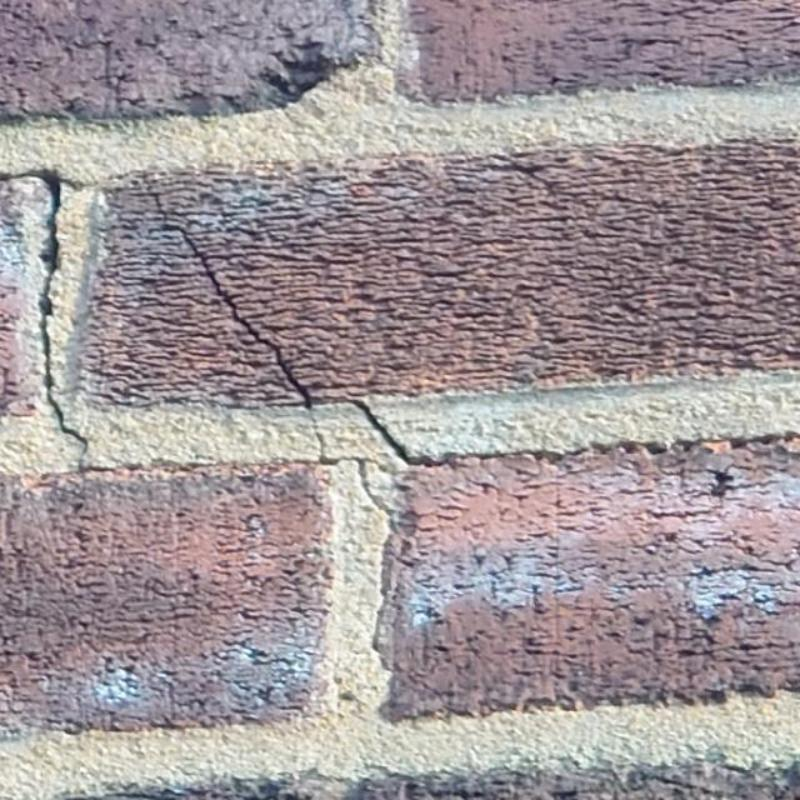pothole: (143, 176, 313, 408), (0, 169, 86, 456), (446, 431, 799, 461), (310, 416, 398, 530), (353, 400, 450, 464)
